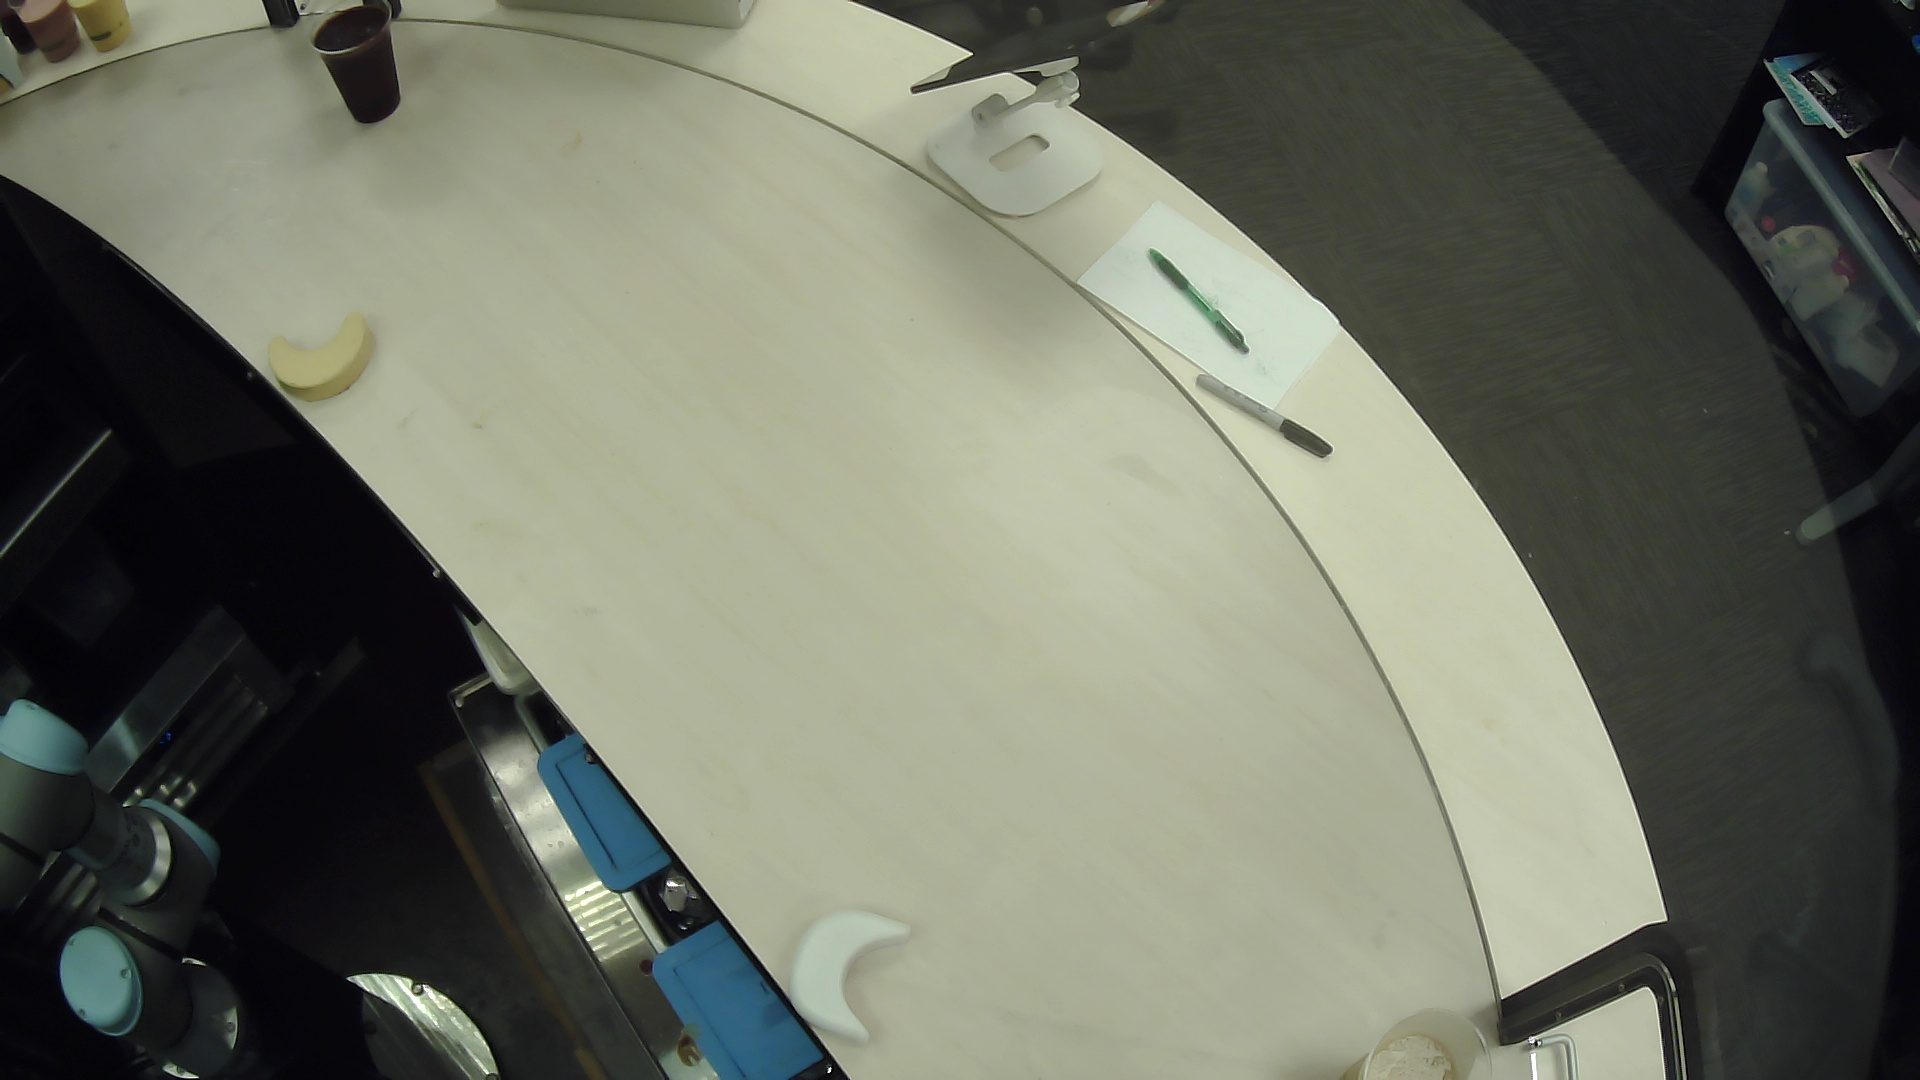Deliver: (769, 876, 952, 1044), (257, 297, 400, 414)
Full_cup: (1321, 993, 1516, 1080), (295, 1, 413, 141)
